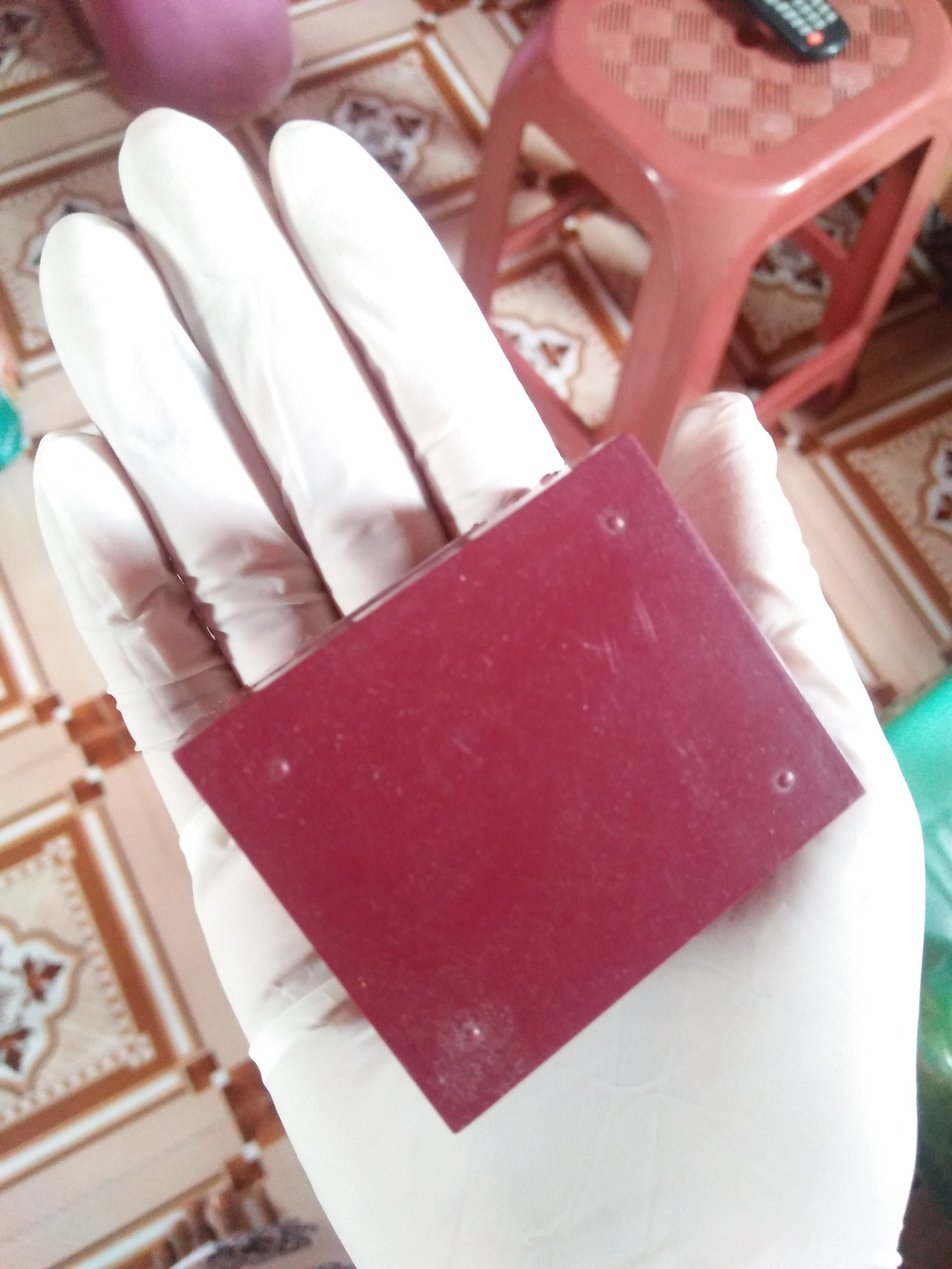gloves: (24, 86, 931, 1263)
